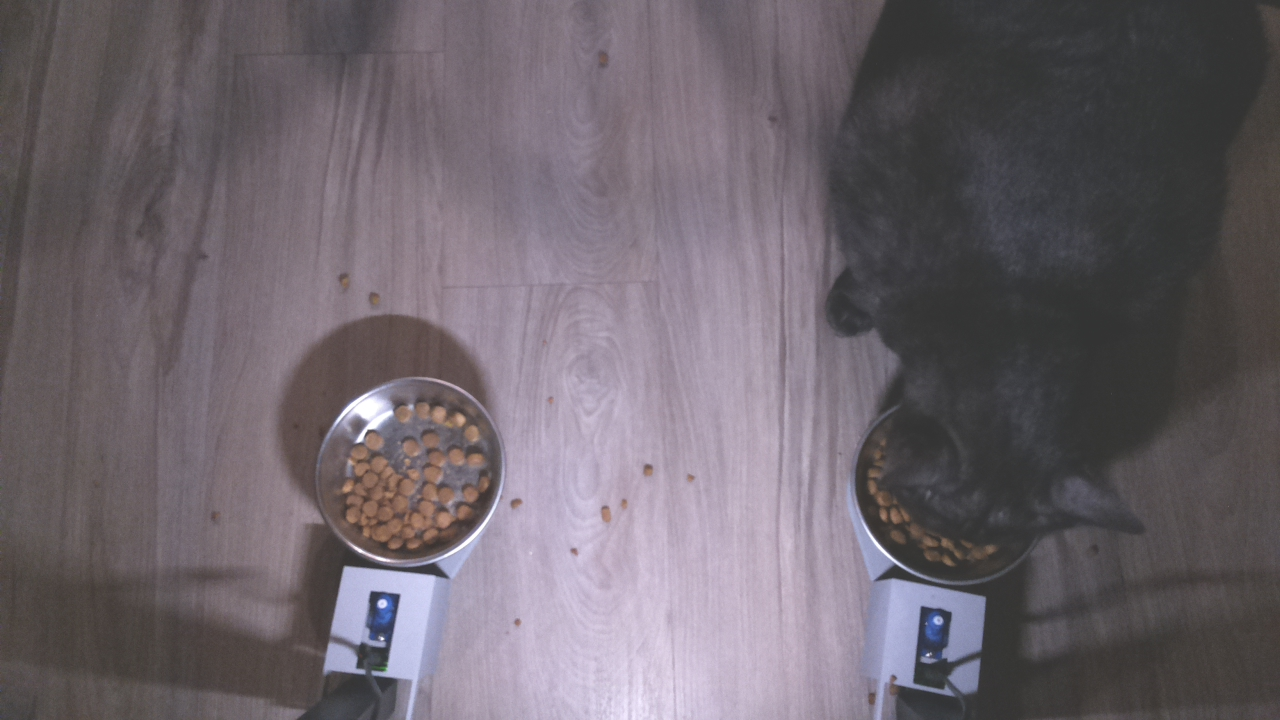open_bowl: (312, 372, 506, 569)
saki_eating: (851, 353, 1155, 592)
